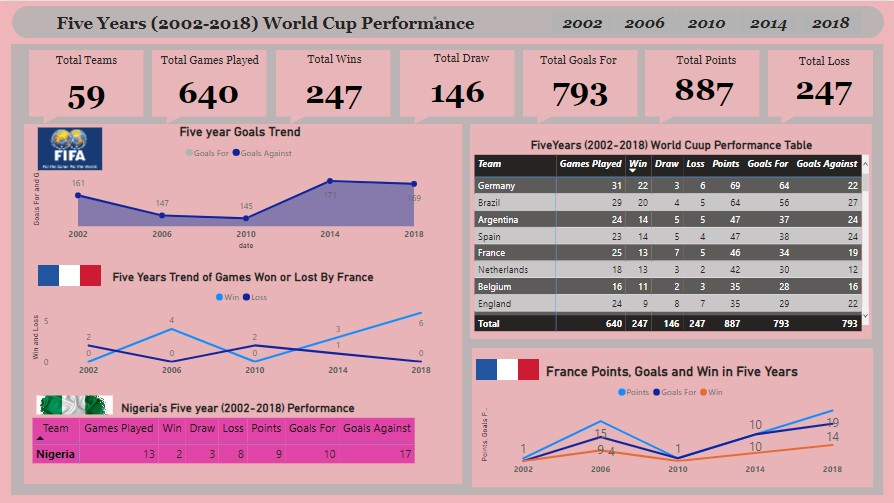

Layout of this report page (visuals, bound fields, positions):
{"tool":"powerbi","page":{"name":"Dashboard","canvas":[1280,720],"ordinal":0},"visuals":[{"type":"lineChart","title":"Five Years Trend of Games Won or Lost By France","fields":{"Category":["Five_years_data.date","Five_years_data.Team"],"Y":["Sum(Five_years_data.Win)","Sum(Five_years_data.Loss)"]},"box":[41.4,384.3,614.3,161.4],"z":0,"group":"g1"},{"type":"shape","box":[17.1,61.4,1245.7,644.3],"z":0},{"type":"shape","box":[42.9,70,164.3,105.7],"z":1000},{"type":"shape","box":[18.6,7.1,1245.7,45.7],"z":2000},{"type":"card","fields":{"Values":["FIFA_2002-2018.TOTAL_TEAMS"]},"box":[42.9,81.4,164.3,94.3],"z":3000},{"type":"textbox","box":[71.4,70,107.1,28.6],"z":4000},{"type":"shape","box":[218.6,70,164.3,105.7],"z":5000},{"type":"card","fields":{"Values":["Sum(FIFA_2002-2018.Games Played)"]},"box":[217.1,91.4,164.3,72.9],"z":6000},{"type":"textbox","box":[207.1,70,188.6,30],"z":7000},{"type":"shape","box":[395.7,70,164.3,105.7],"z":8000},{"type":"shape","box":[572.9,70,164.3,105.7],"z":9000},{"type":"shape","box":[748.6,70,164.3,105.7],"z":10000},{"type":"card","fields":{"Values":["Sum(FIFA_2002-2018.Win)"]},"box":[395.7,81.4,164.3,94.3],"z":11000},{"type":"textbox","box":[425.7,68.6,107.1,28.6],"z":12000},{"type":"card","fields":{"Values":["Sum(FIFA_2002-2018.Draw)"]},"box":[572.9,80,164.3,94.3],"z":13000},{"type":"textbox","box":[607.1,67.1,107.1,28.6],"z":14000},{"type":"card","fields":{"Values":["Sum(FIFA_2002-2018.Goals For)"]},"box":[748.6,77.1,164.3,94.3],"z":15000},{"type":"textbox","box":[751.4,70,152.9,42.9],"z":16000},{"type":"shape","box":[922.9,70,164.3,105.7],"z":17000},{"type":"card","fields":{"Values":["Sum(FIFA_2002-2018.Points)"]},"box":[924.3,77.1,164.3,94.3],"z":18000},{"type":"textbox","box":[934.3,70,152.9,42.9],"z":19000},{"type":"shape","box":[1098.6,70,150,105.7],"z":20000},{"type":"card","fields":{"Values":["Sum(FIFA_2002-2018.Loss)"]},"box":[1095.7,75.7,164.3,94.3],"z":21000},{"type":"textbox","box":[1102.9,71.4,152.9,42.9],"z":22000},{"type":"shape","box":[35.7,175.7,625.7,514.3],"z":23000},{"type":"shape","box":[672.9,175.7,574.3,307.1],"z":24000},{"type":"slicer","fields":{"Values":["Five_years_data.date"]},"box":[764.3,7.1,491.4,40],"z":25000},{"type":"textbox","box":[18.6,12.9,730,40],"z":26000},{"type":"areaChart","title":"Five year Goals Trend","fields":{"Category":["Five_years_data.date"],"Y":["Sum(Five_years_data.Goals For)","Sum(Five_years_data.Goals Against)"]},"box":[42.9,175.7,602.9,184.3],"z":27000},{"type":"group","id":"g1","title":"Group 1","box":[41.4,384.3,614.3,161.4],"z":28000},{"type":"pivotTable","title":"Nigeria''s Five year (2002-2018) Performance","fields":{"Rows":["Five_years_data.Team"],"Values":["Sum(Five_years_data.Games Played)","Sum(Five_years_data.Win)","Sum(Five_years_data.Draw)","Sum(Five_years_data.Loss)","Sum(Five_years_data.Points)","Sum(Five_years_data.Goals For)","Sum(Five_years_data.Goals Against)"]},"box":[42.9,571.4,597.1,117.1],"z":29000},{"type":"image","box":[48.6,558.6,118.6,37.1],"z":30000},{"type":"image","box":[35.7,361.4,130,61.4],"z":31000},{"type":"image","box":[31.4,175.7,140,71.4],"z":32000},{"type":"pivotTable","title":"FiveYears (2002-2018) World Cuup Performance Table","fields":{"Rows":["Five_years_data.Team"],"Values":["Sum(Five_years_data.Games Played)","Sum(Five_years_data.Win)","Sum(Five_years_data.Draw)","Sum(Five_years_data.Loss)","Sum(Five_years_data.Points)","Sum(Five_years_data.Goals For)","Sum(Five_years_data.Goals Against)"]},"box":[674,195,572.9,281.4],"z":33000},{"type":"shape","box":[675.7,495.7,572.9,198.6],"z":34000},{"type":"lineChart","title":"France Points, Goals  and Win in Five Years","fields":{"Category":["Five_years_data.date"],"Y":["Sum(Five_years_data.Points)","Sum(Five_years_data.Goals For)","Sum(Five_years_data.Win)"]},"box":[682.9,517.1,557.1,170],"z":35000},{"type":"image","box":[661.4,495.7,130,61.4],"z":36000}]}

Visuals, with their boxes in screenshot pixels (x1, y1, x2, y2), scaled from the page's 1280x720 canvas onto the 894x503 screenshot:
"Five Years Trend of Games Won or Lost By France" lineChart: pyautogui.locateOnScreen(29, 268, 458, 381)
shape: pyautogui.locateOnScreen(12, 43, 882, 493)
shape: pyautogui.locateOnScreen(30, 49, 145, 123)
shape: pyautogui.locateOnScreen(13, 5, 883, 37)
card - FIFA_2002-2018.TOTAL_TEAMS: pyautogui.locateOnScreen(30, 57, 145, 123)
textbox: pyautogui.locateOnScreen(50, 49, 125, 69)
shape: pyautogui.locateOnScreen(153, 49, 267, 123)
card - Sum(FIFA_2002-2018.Games Played): pyautogui.locateOnScreen(152, 64, 266, 115)
textbox: pyautogui.locateOnScreen(145, 49, 276, 70)
shape: pyautogui.locateOnScreen(276, 49, 391, 123)
shape: pyautogui.locateOnScreen(400, 49, 515, 123)
shape: pyautogui.locateOnScreen(523, 49, 638, 123)
card - Sum(FIFA_2002-2018.Win): pyautogui.locateOnScreen(276, 57, 391, 123)
textbox: pyautogui.locateOnScreen(297, 48, 372, 68)
card - Sum(FIFA_2002-2018.Draw): pyautogui.locateOnScreen(400, 56, 515, 122)
textbox: pyautogui.locateOnScreen(424, 47, 499, 67)
card - Sum(FIFA_2002-2018.Goals For): pyautogui.locateOnScreen(523, 54, 638, 120)
textbox: pyautogui.locateOnScreen(525, 49, 632, 79)
shape: pyautogui.locateOnScreen(645, 49, 759, 123)
card - Sum(FIFA_2002-2018.Points): pyautogui.locateOnScreen(646, 54, 760, 120)
textbox: pyautogui.locateOnScreen(653, 49, 759, 79)
shape: pyautogui.locateOnScreen(767, 49, 872, 123)
card - Sum(FIFA_2002-2018.Loss): pyautogui.locateOnScreen(765, 53, 880, 119)
textbox: pyautogui.locateOnScreen(770, 50, 877, 80)
shape: pyautogui.locateOnScreen(25, 123, 462, 482)
shape: pyautogui.locateOnScreen(470, 123, 871, 337)
slicer - Five_years_data.date: pyautogui.locateOnScreen(534, 5, 877, 33)
textbox: pyautogui.locateOnScreen(13, 9, 523, 37)
"Five year Goals Trend" areaChart: pyautogui.locateOnScreen(30, 123, 451, 252)
"Group 1" group: pyautogui.locateOnScreen(29, 268, 458, 381)
"Nigeria''s Five year (2002-2018) Performance" pivotTable: pyautogui.locateOnScreen(30, 399, 447, 481)
image: pyautogui.locateOnScreen(34, 390, 117, 416)
image: pyautogui.locateOnScreen(25, 252, 116, 295)
image: pyautogui.locateOnScreen(22, 123, 120, 173)
"FiveYears (2002-2018) World Cuup Performance Table" pivotTable: pyautogui.locateOnScreen(471, 136, 871, 333)
shape: pyautogui.locateOnScreen(472, 346, 872, 485)
"France Points, Goals  and Win in Five Years" lineChart: pyautogui.locateOnScreen(477, 361, 866, 480)
image: pyautogui.locateOnScreen(462, 346, 553, 389)
